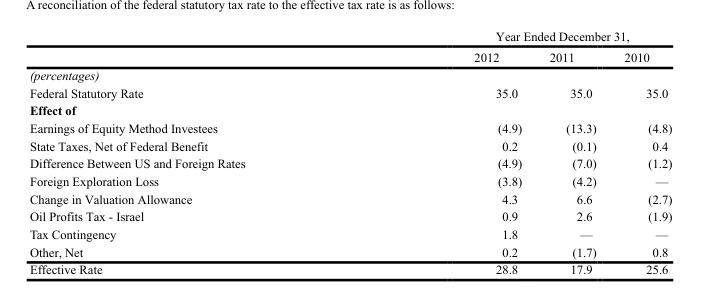table: (28, 28, 671, 276)
table column: (28, 28, 358, 276), (358, 28, 534, 276), (534, 28, 609, 276), (609, 28, 671, 276)
table column header: (28, 28, 671, 65)
table projected row header: (28, 65, 671, 83), (28, 101, 671, 118)
table row: (28, 46, 671, 65), (28, 28, 671, 46), (28, 65, 671, 83), (28, 83, 671, 101), (28, 118, 671, 136), (28, 136, 671, 154), (28, 171, 671, 189), (28, 189, 671, 207), (28, 224, 671, 242), (28, 242, 671, 260), (28, 101, 671, 118), (28, 154, 671, 171), (28, 207, 671, 224), (28, 260, 671, 276)
table spanning cell: (358, 28, 671, 46)
